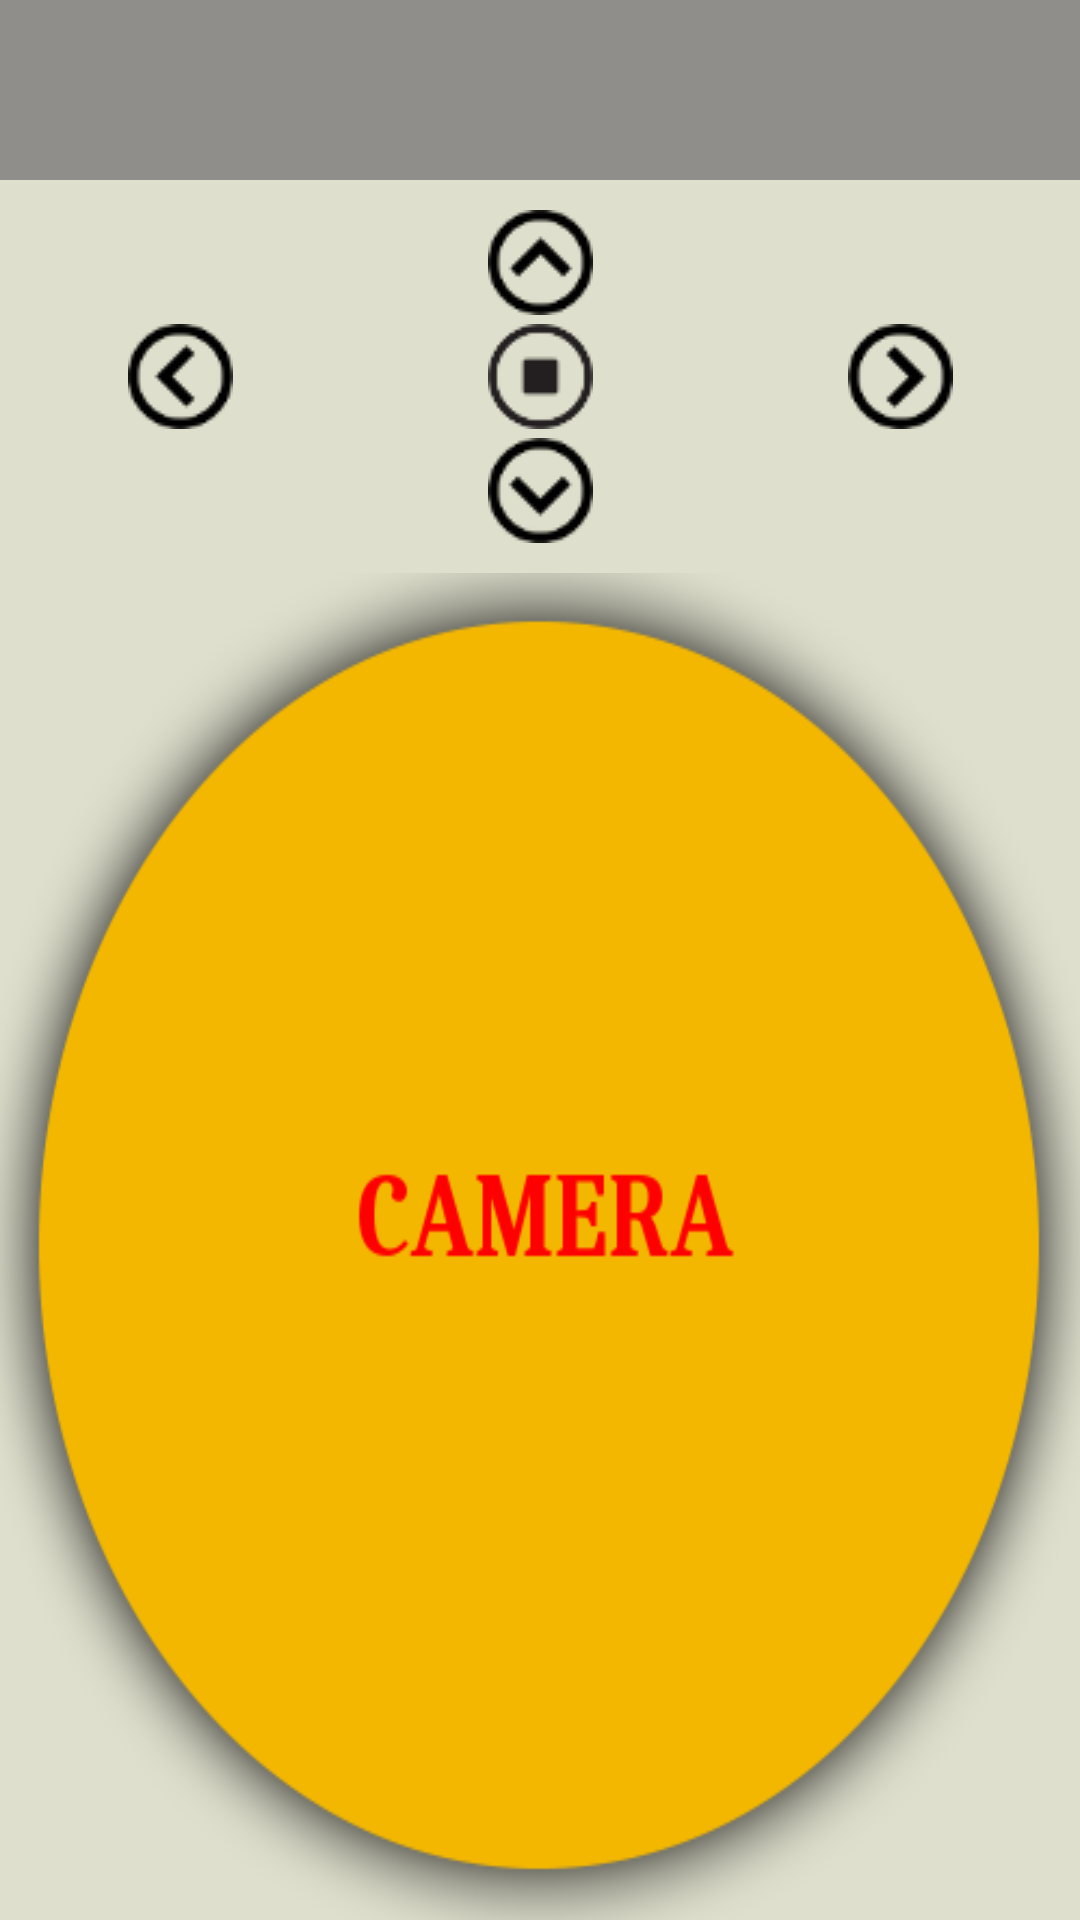

Icons on this 1080 x 1920 Android screen, each with its box as BBox(x1, y1, x2, y2):
stop: BBox(488, 324, 593, 429)
